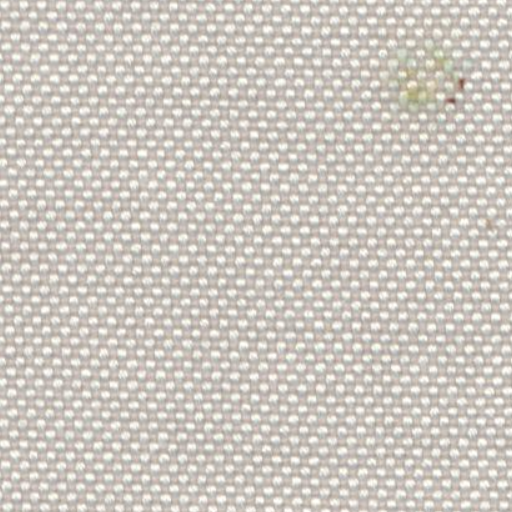WuZi: (380, 39, 480, 128)
